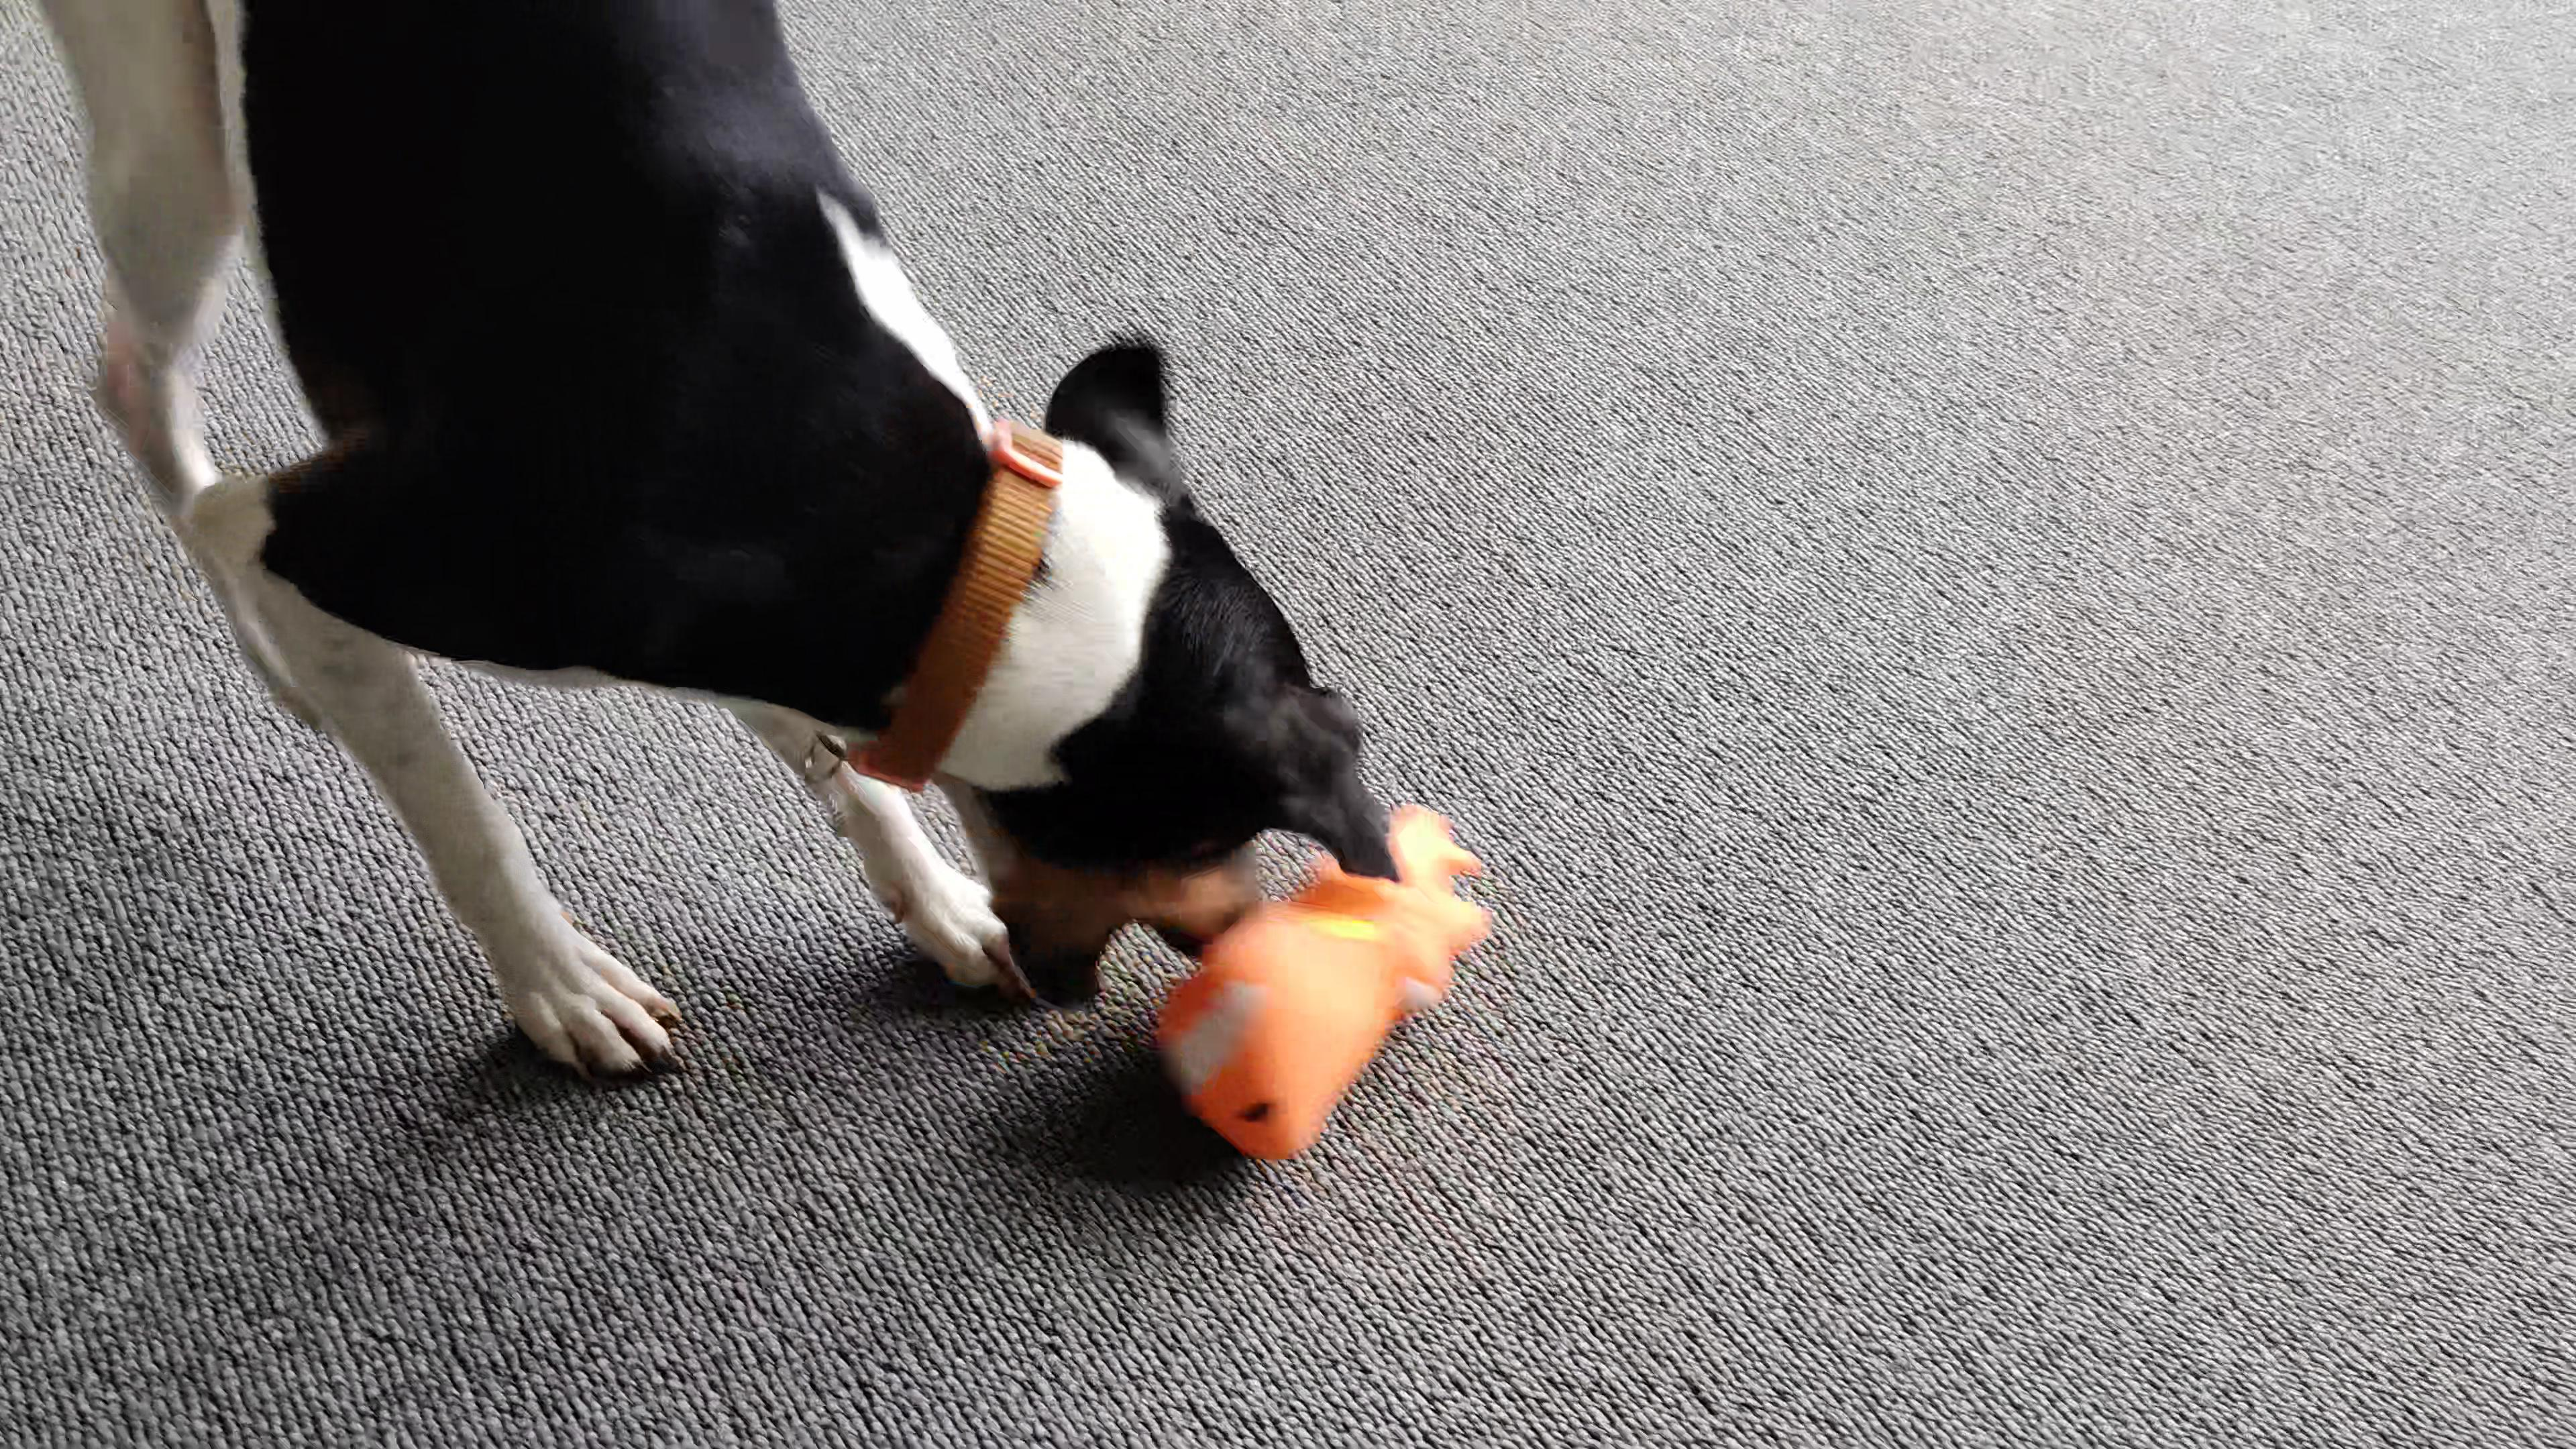Dog: (18, 0, 1407, 1102)
